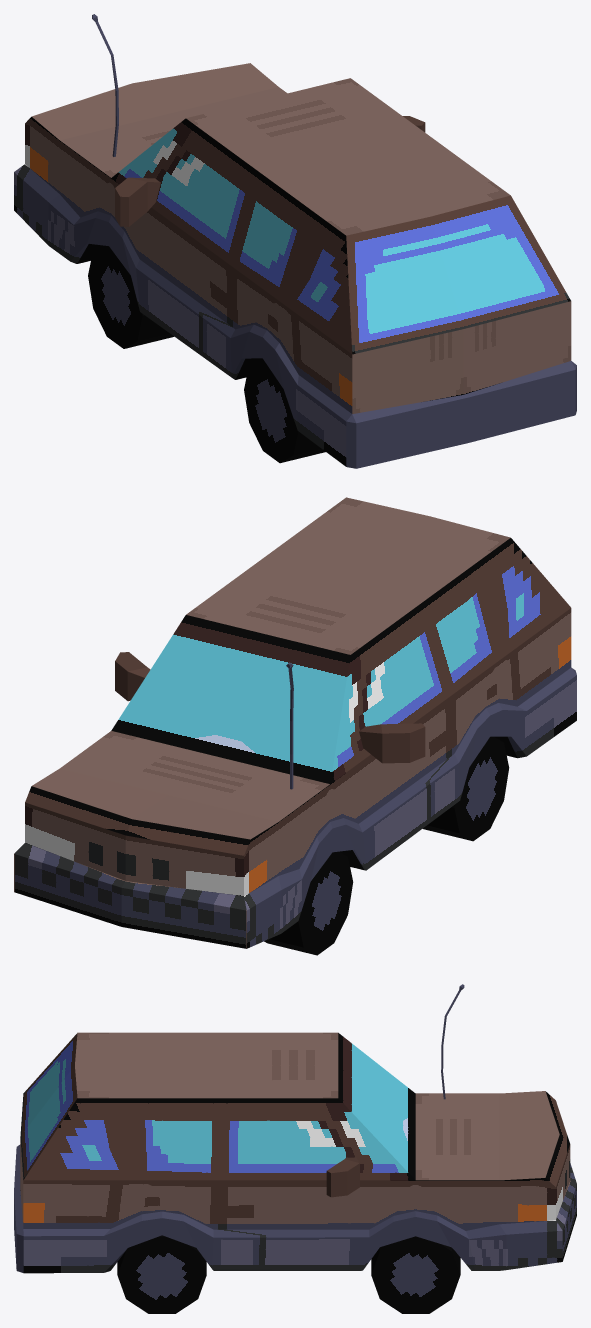
Rendered from car_merged.glb.
3 renders of one model, top to bottom at view 1: azimuth 30°, elevation 25°; view 2: azimuth 150°, elevation 25°; view 3: azimuth 270°, elevation 25°, orthographic. The views are drawn at different scales.
Parts seen in each view (by area): view 1: Car; view 2: Car; view 3: Car.
Boxes of the visible parts, box(x1,y1,x2,y2) form: Car: box(14, 14, 576, 468); Car: box(14, 497, 576, 955); Car: box(14, 984, 576, 1313).
Size of the model in its own units: 2.49 by 2.39 by 4.89.
4 materials, 4 textured.
